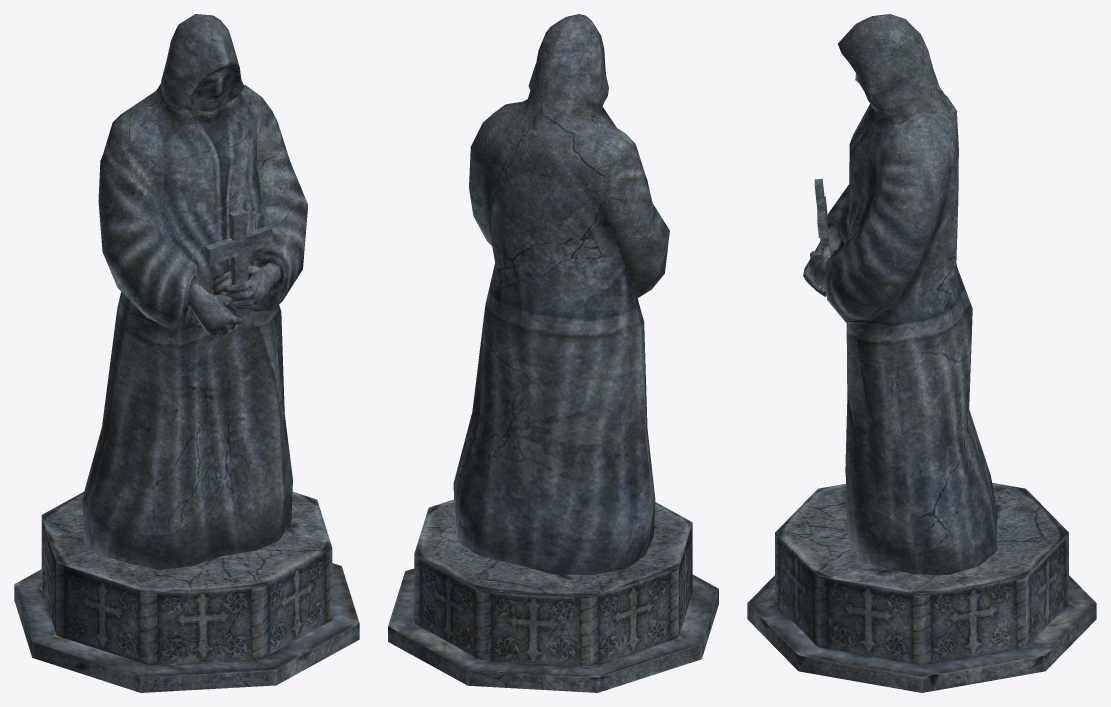
Rendered from Statue1.FBX.
3 renders of one model, left to right at view 1: azimuth 30°, elevation 25°; view 2: azimuth 150°, elevation 25°; view 3: azimuth 270°, elevation 25°, orthographic. The views are drawn at different scales.
Visible parts, largest first — view 1: Statue1; view 2: Statue1; view 3: Statue1.
Part boxes in pixels (x1=…): Statue1: x1=14, y1=14, x2=359, y2=692; Statue1: x1=388, y1=14, x2=718, y2=692; Statue1: x1=747, y1=14, x2=1096, y2=692.
Bounding box in the file's own units: 24.77 × 47.23 × 24.77.
